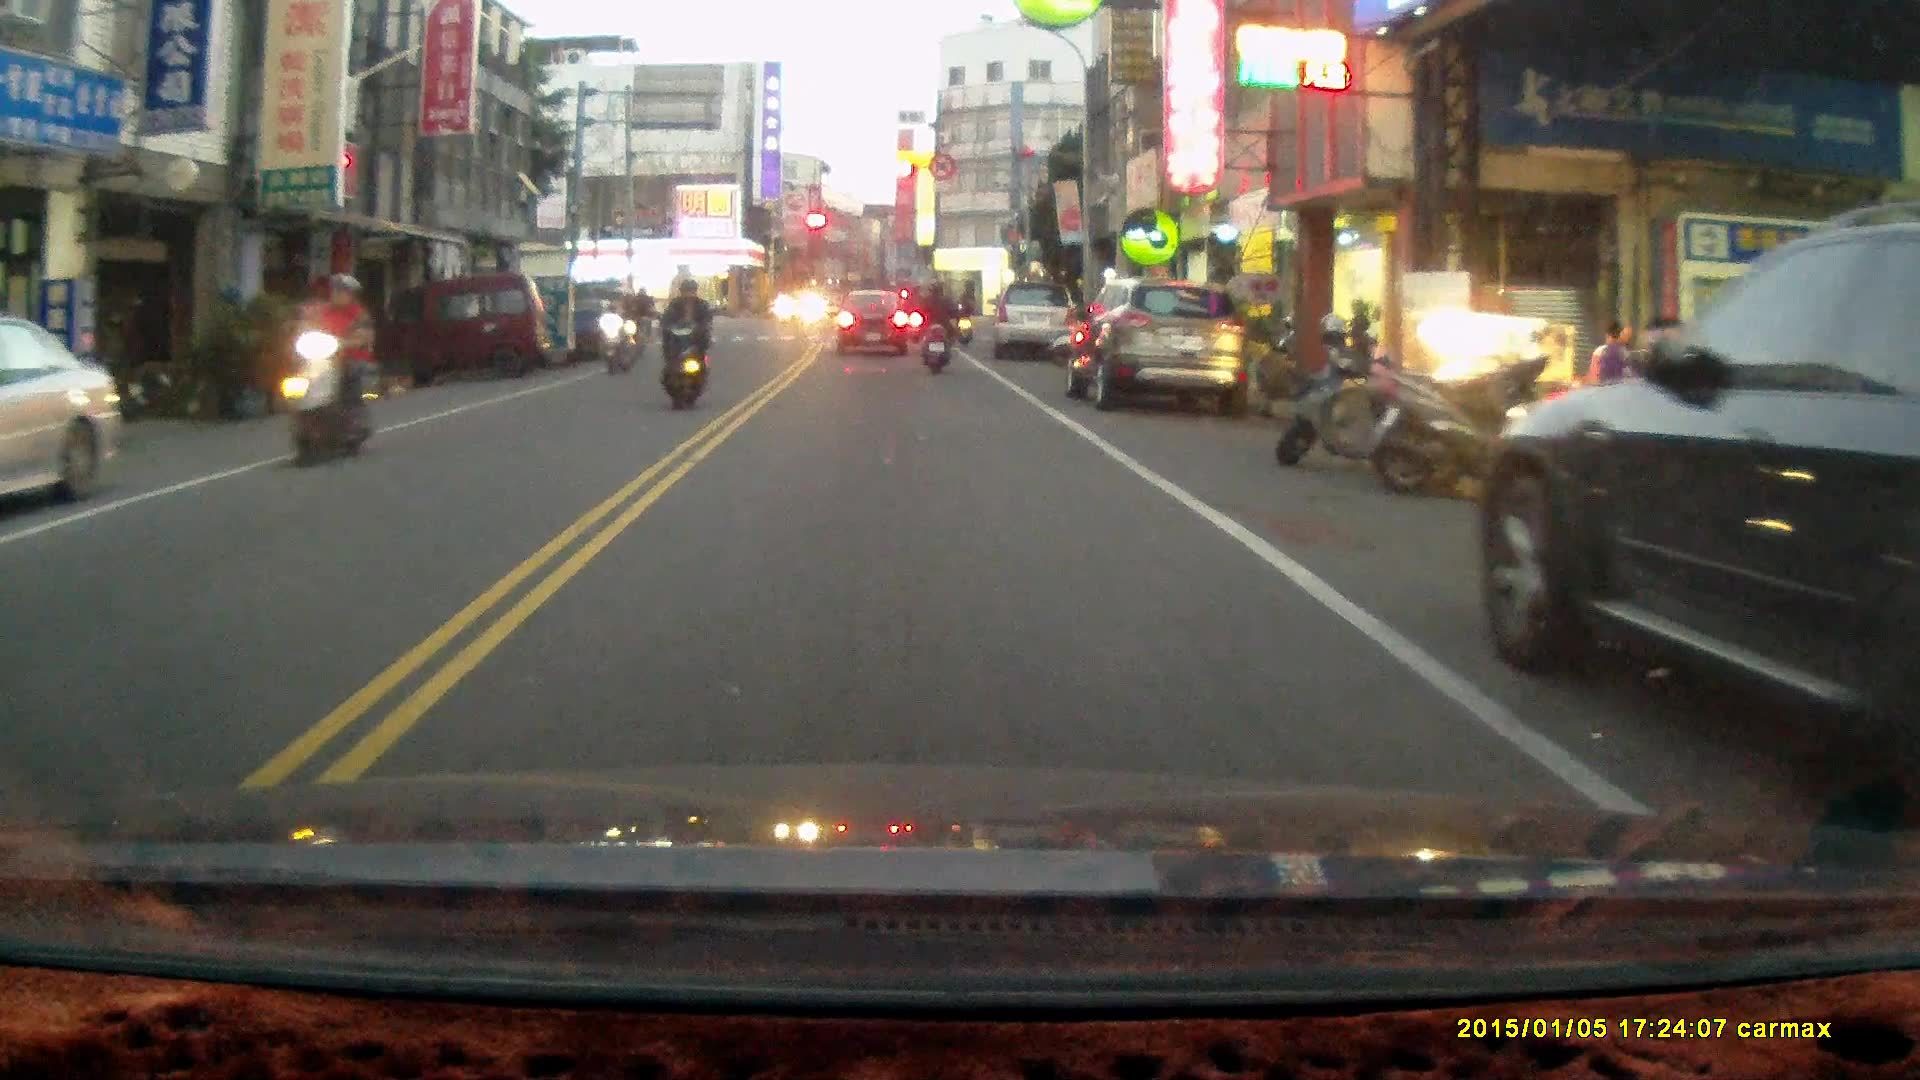pedestrian: (1586, 316, 1635, 433)
rider: (281, 269, 380, 470), (654, 276, 710, 412), (914, 277, 955, 376), (597, 283, 639, 377), (623, 276, 656, 356), (953, 290, 974, 347)
vehicle: (1469, 198, 1920, 801), (1066, 280, 1250, 412), (1, 315, 119, 521), (377, 272, 556, 382), (998, 277, 1079, 359)
